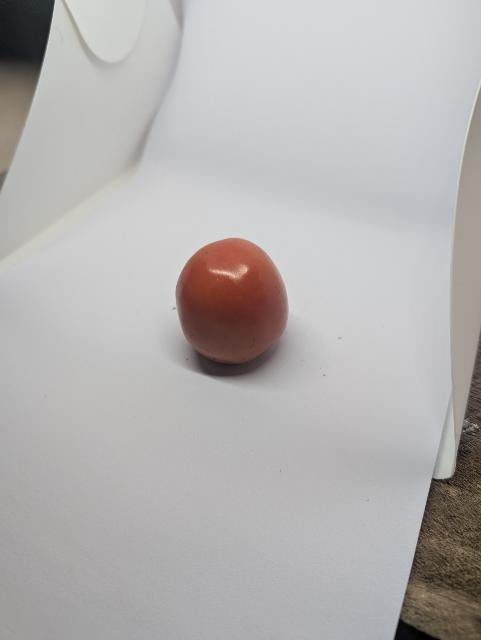red: (171, 233, 295, 376)
